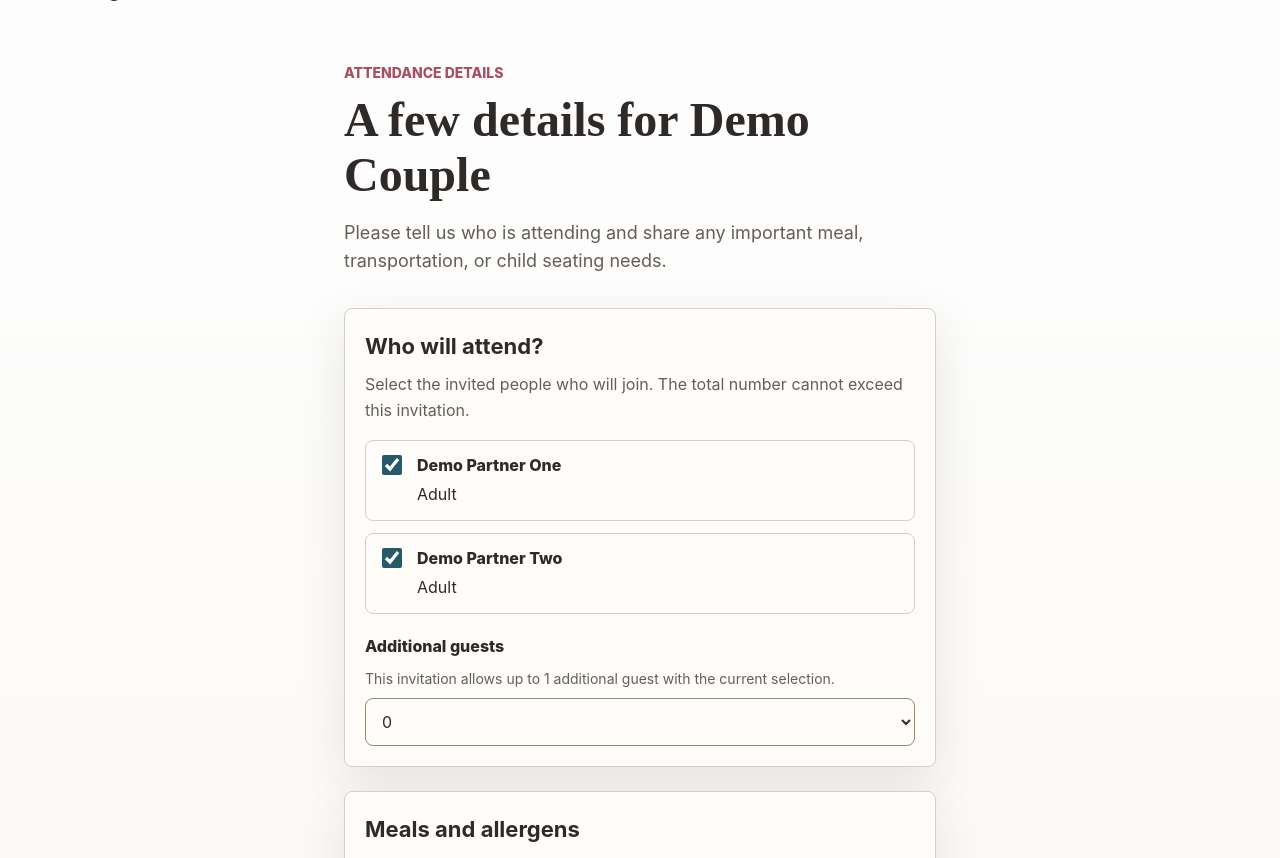
guest routing and RSVP flows › prevents invalid questionnaire submission
This screenshot has width=1280, height=858.
Expected: the heading "A few details for Demo Couple" is shown, [344,93,810,201]
Select "1" in the dropdown labelled "Additional guests": (640,722) [365,698,915,746]
(page scrolled)
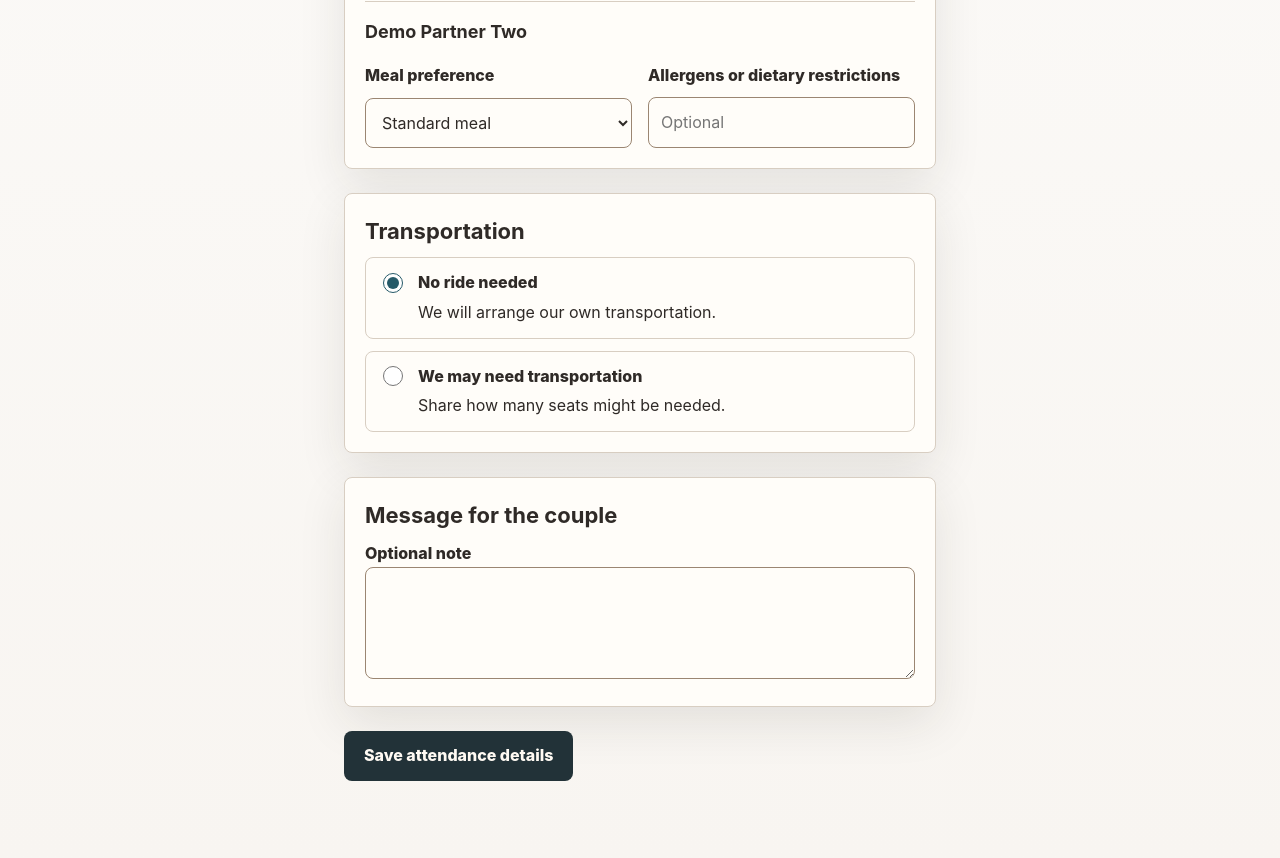
Click the button "Save attendance details": (459,756) [344,731,573,781]
(page scrolled)
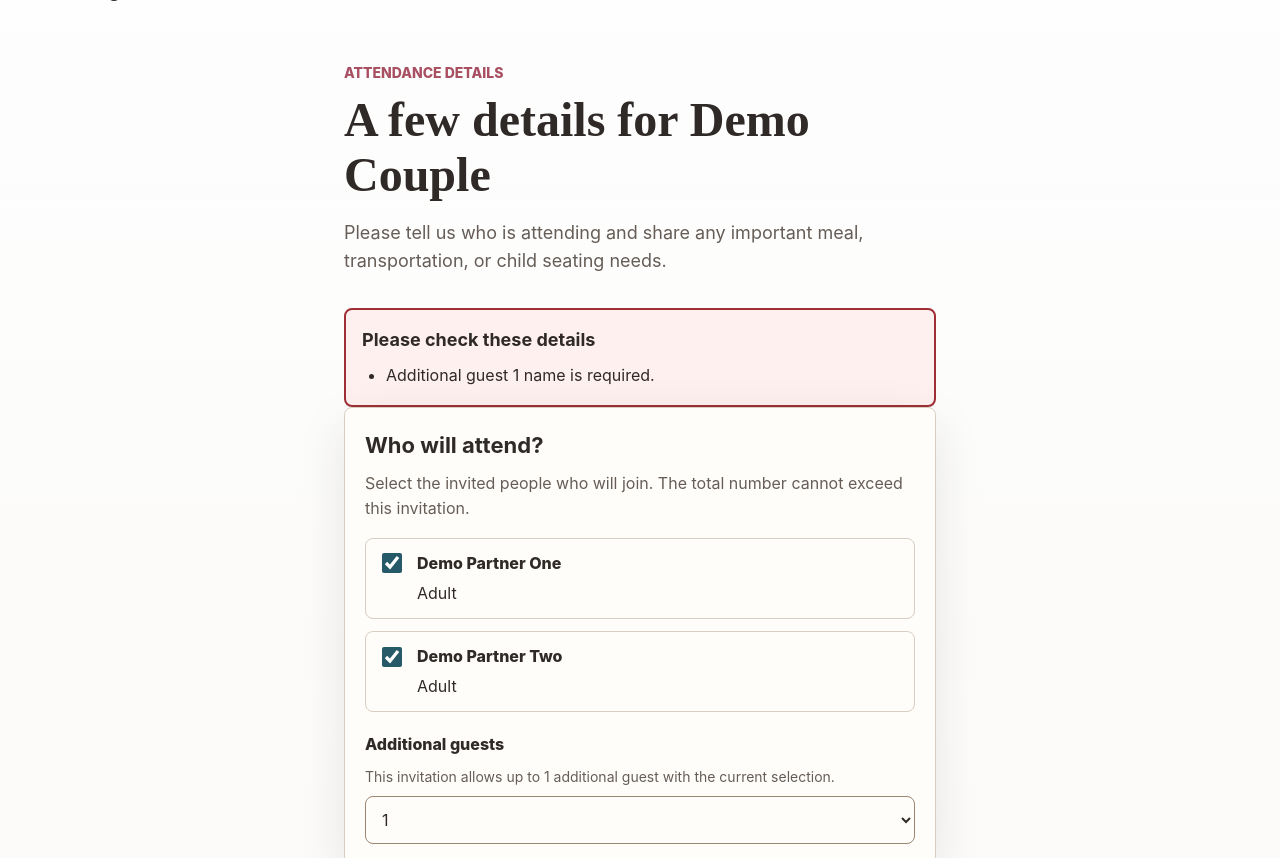
Expected: the heading "A few details for Demo Couple" is shown, [344,93,810,201]
Now the list item "Additional guest 1 name is required." is shown, box [386,365,655,385]
